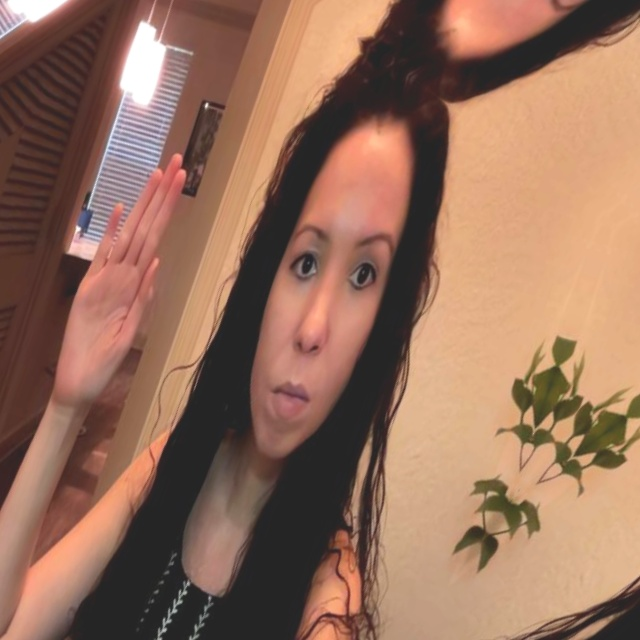Paper: (0, 0, 7, 248)
